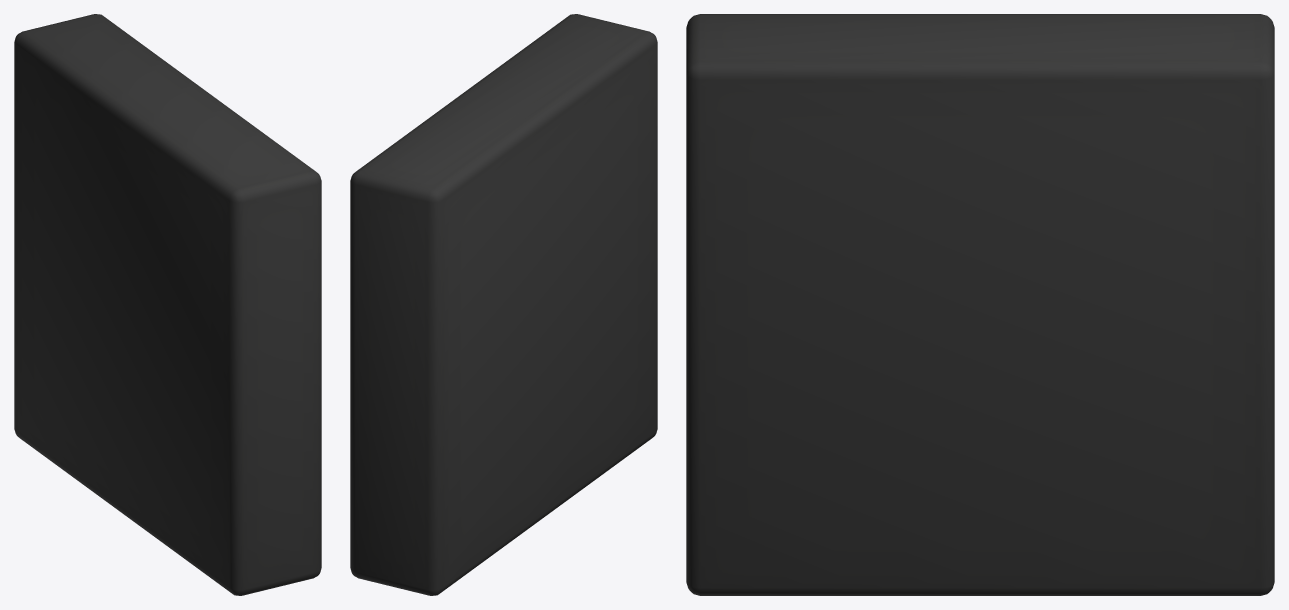
The model's file is matteblack.glb.
The picture shows the model from 3 angles, left to right: view 1: azimuth 30°, elevation 25°; view 2: azimuth 150°, elevation 25°; view 3: azimuth 270°, elevation 25°; orthographic projection. The views are drawn at different scales.
Parts seen in each view (by area): view 1: Matte_Black; view 2: Matte_Black; view 3: Matte_Black.
Boxes of the visible parts, x1,y1,x2,y2 form: Matte_Black: (14,14,321,595); Matte_Black: (350,14,657,595); Matte_Black: (686,14,1274,595).
Bounding box in the file's own units: 0.9106 × 3.9 × 3.9.
1 material, 1 textured.
